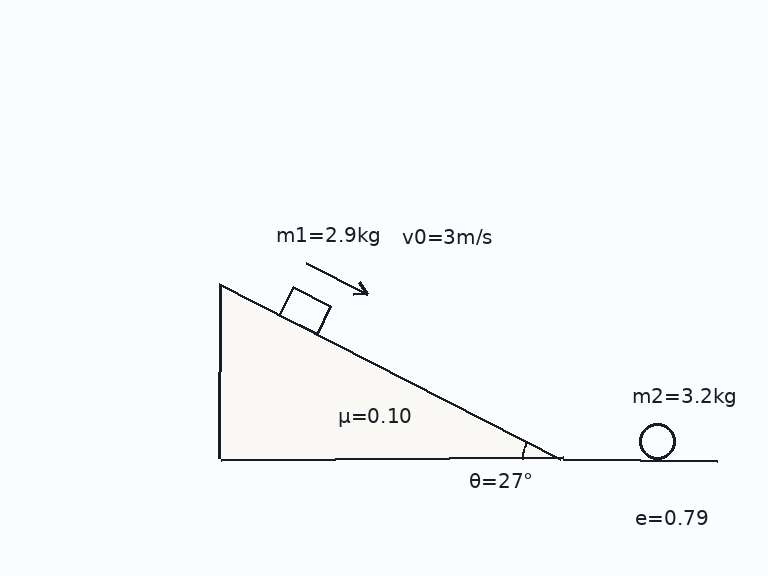ball: (637, 421, 677, 461)
block: (277, 285, 332, 335)
ramp: (218, 282, 565, 461)
